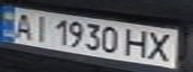0: (100, 24, 124, 55)
1: (48, 16, 72, 47)
3: (81, 20, 103, 52)
9: (66, 18, 84, 50)
A: (9, 9, 36, 39)
H: (121, 26, 154, 59)
I: (27, 12, 51, 43)
X: (145, 29, 178, 63)
